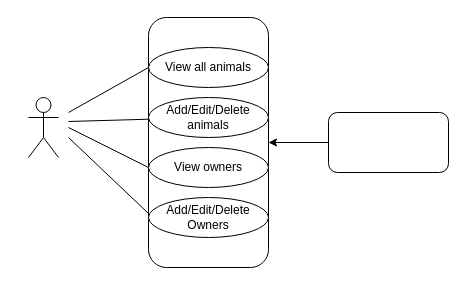
This 466x285 diagram has some shape labels left out. Each missing label, with the centre of its shape:
Scottish Animal Shelter database: point (388, 142)
Shelter employee: point (43, 127)
